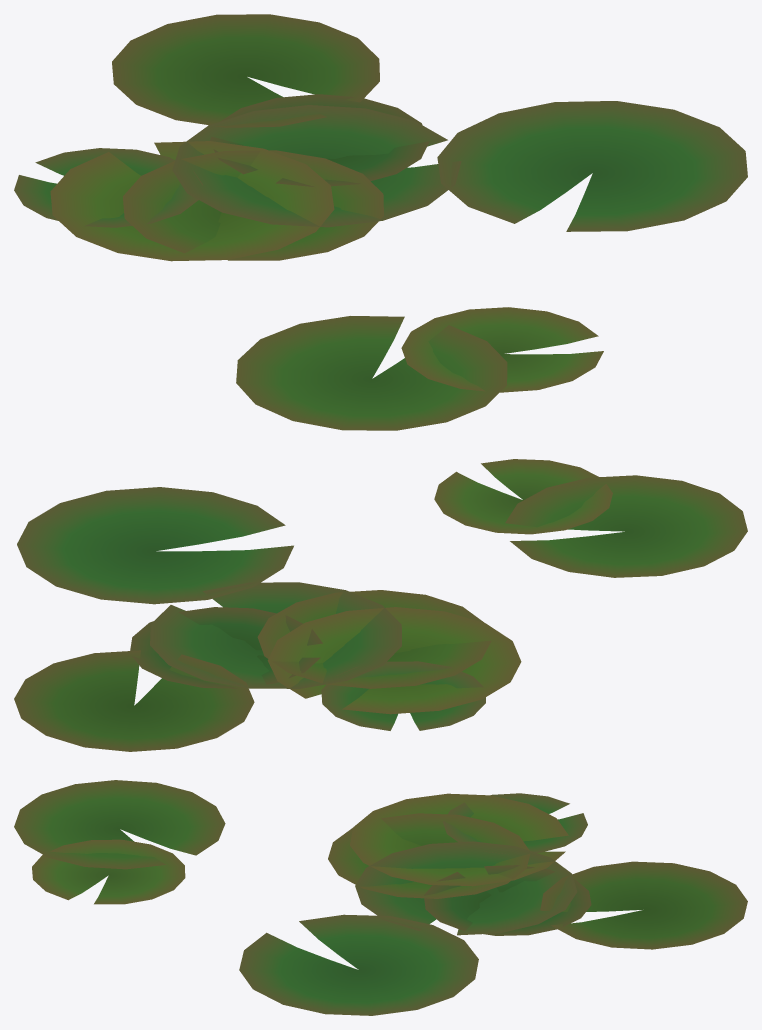
File: lily-pads-b.lod0.glb
The picture shows the model from 3 angles, top to bottom: view 1: azimuth 30°, elevation 25°; view 2: azimuth 150°, elevation 25°; view 3: azimuth 270°, elevation 25°; orthographic projection. The views are drawn at different scales.
Parts seen in each view (by area): view 1: lily-pads-b.lod0; view 2: lily-pads-b.lod0; view 3: lily-pads-b.lod0.
Part boxes in pixels (x1,y1,x2,y2): lily-pads-b.lod0: (14,14,747,430); lily-pads-b.lod0: (14,459,747,751); lily-pads-b.lod0: (14,780,747,1015).
Size of the model in its own units: 1.02 by 0.00984 by 1.33.
